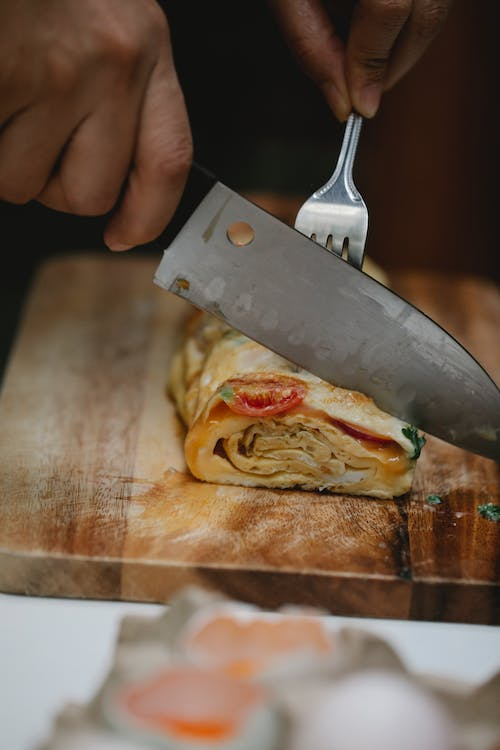knife: (150, 167, 500, 465)
